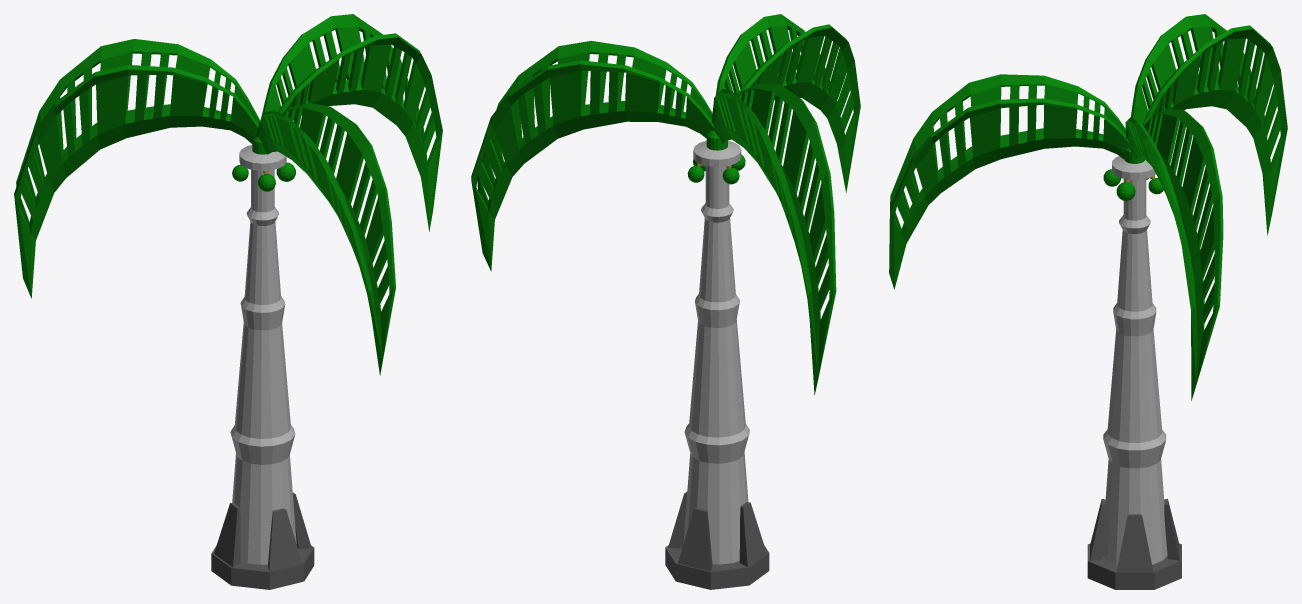
The model's file is PalmTree.fbx.
3 renders of one model, left to right at view 1: azimuth 30°, elevation 25°; view 2: azimuth 150°, elevation 25°; view 3: azimuth 270°, elevation 25°, orthographic. The views are drawn at different scales.
Visible parts, largest first — view 1: Leaf3, Pole, Leaf2, Leaf1, Base, CoCo; view 2: Leaf2, Pole, Leaf3, Leaf1, Base, CoCo; view 3: Pole, Leaf1, Leaf3, Leaf2, Base, CoCo.
Boxes of the visible parts, x1,y1,x2,y2 form: Leaf3: (14,39,260,298); Pole: (230,137,296,564); Leaf2: (261,14,442,231); Leaf1: (256,103,395,375); Base: (211,492,314,589); CoCo: (232,162,295,191); Leaf2: (471,40,714,271); Pole: (683,131,750,564); Leaf3: (711,83,836,394); Leaf1: (715,14,860,192); Base: (665,491,769,589); CoCo: (687,154,745,184); Pole: (1102,147,1167,564); Leaf1: (889,74,1128,289); Leaf3: (1131,14,1287,235); Leaf2: (1125,108,1223,400); Base: (1087,498,1181,589); CoCo: (1103,169,1163,200).
Size of the model in its own units: 777 by 972 by 698.
